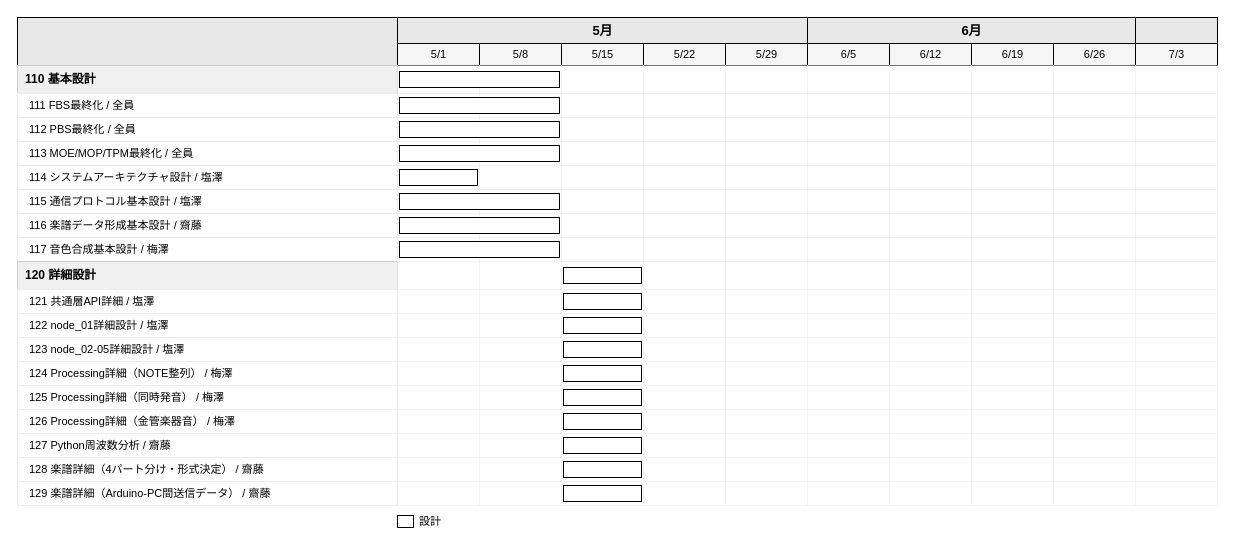
This 1235x547 diagram has some shape labels left out. Each missing label, with the centre of its shape:
7月: (1176,30)
タスク / 担当: (207,41)
